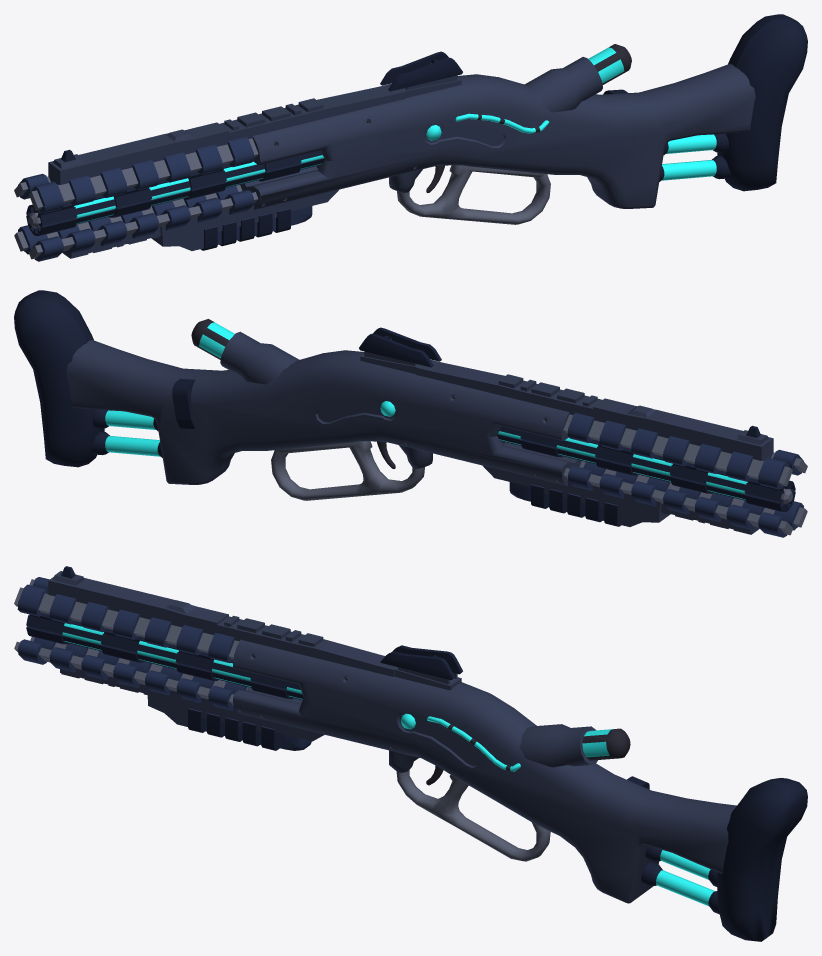
File: Escopeta prototonica.fbx
The picture shows the model from 3 angles, top to bottom: view 1: azimuth 30°, elevation 25°; view 2: azimuth 150°, elevation 25°; view 3: azimuth 330°, elevation 25°; orthographic projection.
Parts seen in each view (by area): view 1: Group7, Group3, Group11, Group10, Group13, Group4, Group2, Group16, Group8, Group9, Group14, Componente_3_21 (+15 smaller); view 2: Group7, Group3, Group11, Group10, Group13, Group4, Group2, Group17, Group8, Group9, Group15, Group6 (+15 smaller); view 3: Group7, Group3, Group11, Group10, Group13, Group2, Group4, Group16, Group8, Group9, Group14, Componente_3_21.
Part boxes in pixels (bbox=[...]): Group7: bbox=[240, 63, 755, 209]; Group3: bbox=[48, 51, 462, 184]; Group11: bbox=[717, 14, 807, 191]; Group10: bbox=[26, 150, 324, 235]; Group13: bbox=[62, 189, 339, 258]; Group4: bbox=[389, 165, 550, 224]; Group2: bbox=[525, 44, 631, 112]; Group16: bbox=[29, 138, 258, 210]; Group8: bbox=[659, 155, 730, 181]; Group9: bbox=[663, 133, 728, 155]; Group14: bbox=[28, 192, 258, 259]; Componente_3_21: bbox=[32, 181, 63, 213]; Group7: bbox=[66, 339, 581, 485]; Group3: bbox=[359, 327, 773, 460]; Group11: bbox=[14, 290, 104, 467]; Group10: bbox=[497, 426, 795, 511]; Group13: bbox=[482, 465, 759, 534]; Group4: bbox=[271, 441, 432, 500]; Group2: bbox=[191, 319, 299, 384]; Group17: bbox=[563, 414, 792, 486]; Group8: bbox=[91, 431, 162, 457]; Group9: bbox=[93, 409, 158, 431]; Group15: bbox=[563, 468, 793, 535]; Group6: bbox=[172, 378, 195, 428]; Group7: bbox=[233, 640, 736, 903]; Group3: bbox=[48, 566, 462, 690]; Group11: bbox=[717, 778, 807, 941]; Group10: bbox=[26, 613, 303, 700]; Group13: bbox=[60, 668, 324, 750]; Group2: bbox=[519, 724, 630, 767]; Group4: bbox=[389, 750, 550, 861]; Group16: bbox=[14, 587, 239, 659]; Group8: bbox=[641, 862, 719, 914]; Group9: bbox=[645, 846, 717, 886]; Group14: bbox=[14, 641, 233, 705]; Componente_3_21: bbox=[17, 584, 48, 616].
Size of the model in its own units: 3101 by 789 by 250.
